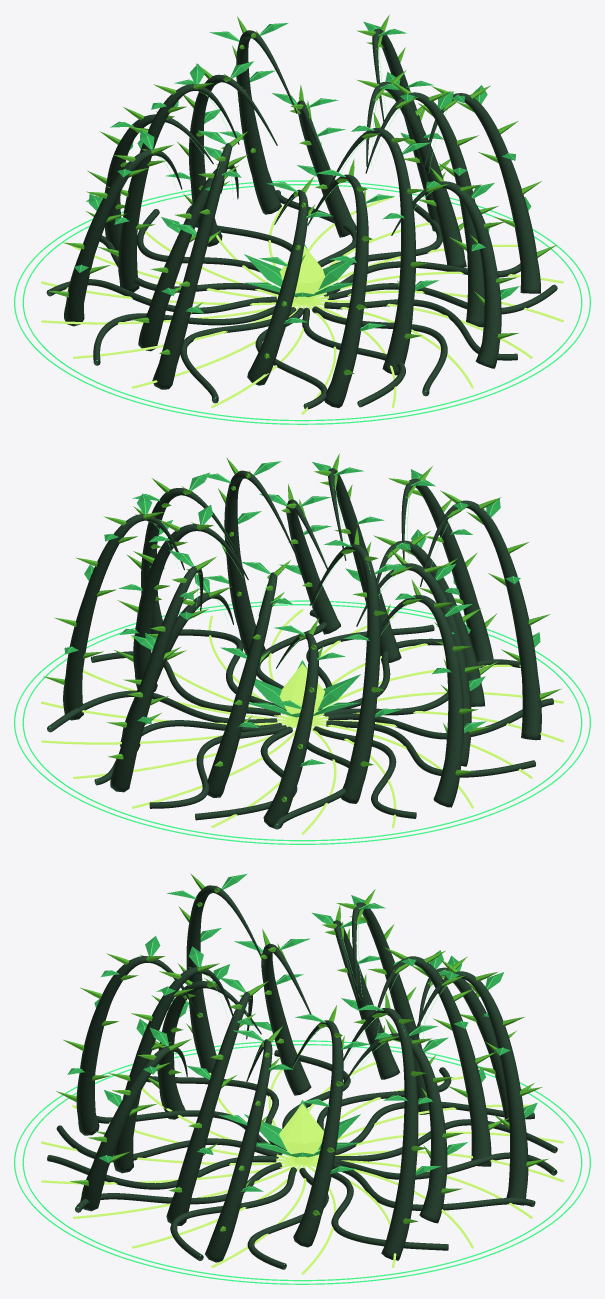
The model's file is sylra_overgrowth.glb.
The picture shows the model from 3 angles, top to bottom: view 1: azimuth 30°, elevation 25°; view 2: azimuth 150°, elevation 25°; view 3: azimuth 270°, elevation 25°; orthographic projection.
Visible parts, largest first — view 1: Sylra_GiantRoots_0, Sylra_GiantRoots_2, Sylra_GiantRoots_1, Sylra_OvergrowthTornRoots, Sylra_OvergrowthSap, Sylra_OvergrowthRing, Sylra_OvergrowthSeed; view 2: Sylra_GiantRoots_0, Sylra_GiantRoots_1, Sylra_GiantRoots_2, Sylra_OvergrowthTornRoots, Sylra_OvergrowthSap, Sylra_OvergrowthRing, Sylra_OvergrowthSeed; view 3: Sylra_GiantRoots_0, Sylra_GiantRoots_1, Sylra_GiantRoots_2, Sylra_OvergrowthTornRoots, Sylra_OvergrowthSap, Sylra_OvergrowthRing, Sylra_OvergrowthSeed.
Boxes of the visible parts, <box> form: Sylra_GiantRoots_0: <box>98,16,556,389</box>; Sylra_GiantRoots_2: <box>86,81,498,408</box>; Sylra_GiantRoots_1: <box>48,14,519,385</box>; Sylra_OvergrowthTornRoots: <box>46,190,557,409</box>; Sylra_OvergrowthSap: <box>41,189,563,414</box>; Sylra_OvergrowthRing: <box>14,180,590,424</box>; Sylra_OvergrowthSeed: <box>244,244,355,304</box>; Sylra_GiantRoots_0: <box>107,453,561,803</box>; Sylra_GiantRoots_1: <box>43,484,497,807</box>; Sylra_GiantRoots_2: <box>106,457,497,828</box>; Sylra_OvergrowthTornRoots: <box>47,609,553,829</box>; Sylra_OvergrowthSap: <box>41,609,563,834</box>; Sylra_OvergrowthRing: <box>14,600,590,844</box>; Sylra_OvergrowthSeed: <box>249,660,360,723</box>; Sylra_GiantRoots_0: <box>95,873,548,1262</box>; Sylra_GiantRoots_1: <box>70,905,508,1260</box>; Sylra_GiantRoots_2: <box>56,929,534,1225</box>; Sylra_OvergrowthTornRoots: <box>47,1050,557,1269</box>; Sylra_OvergrowthSap: <box>41,1050,563,1274</box>; Sylra_OvergrowthRing: <box>14,1040,590,1284</box>; Sylra_OvergrowthSeed: <box>244,1099,360,1164</box>.
Size of what is drawn, in the model's own units: 2.2 by 0.9827 by 2.21.
